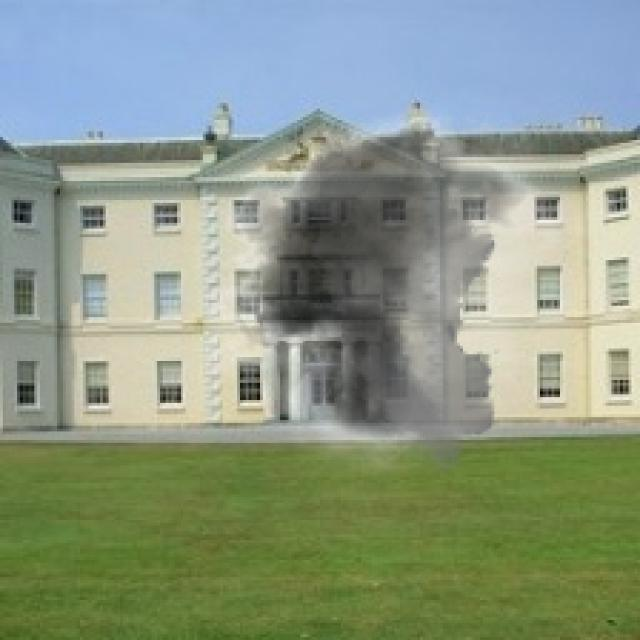Smoke: (182, 88, 608, 474)
